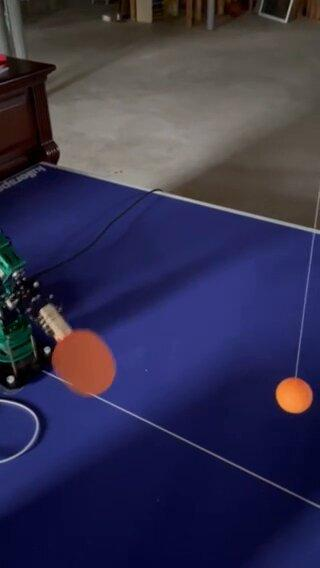oball: (274, 376, 313, 413)
